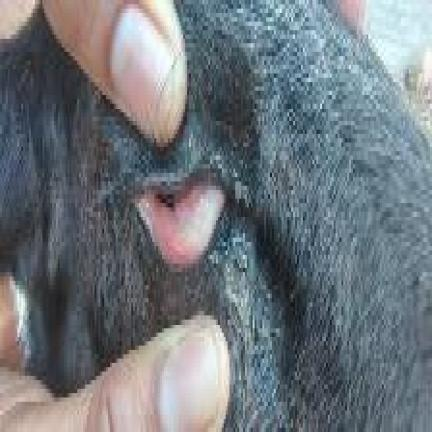goat-eye-anemia-22222222: (133, 164, 251, 268)
